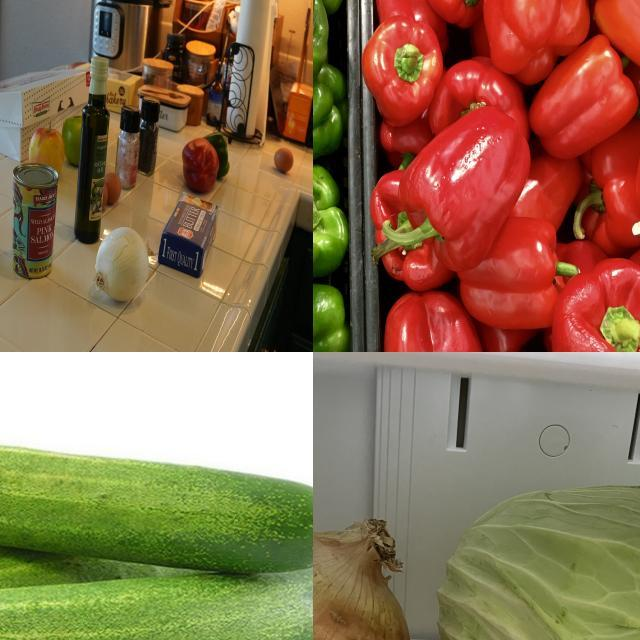bell_pepper: (385, 96, 531, 279), (549, 257, 640, 353), (366, 11, 442, 122), (483, 1, 589, 76), (382, 292, 489, 353), (181, 137, 220, 192), (138, 97, 162, 179), (208, 127, 232, 179)
cabbage: (434, 483, 640, 640)
cucumber: (1, 435, 314, 577), (1, 568, 314, 640)
egg: (272, 144, 296, 180), (102, 170, 122, 208)
onion: (314, 514, 410, 640), (91, 225, 154, 307)
